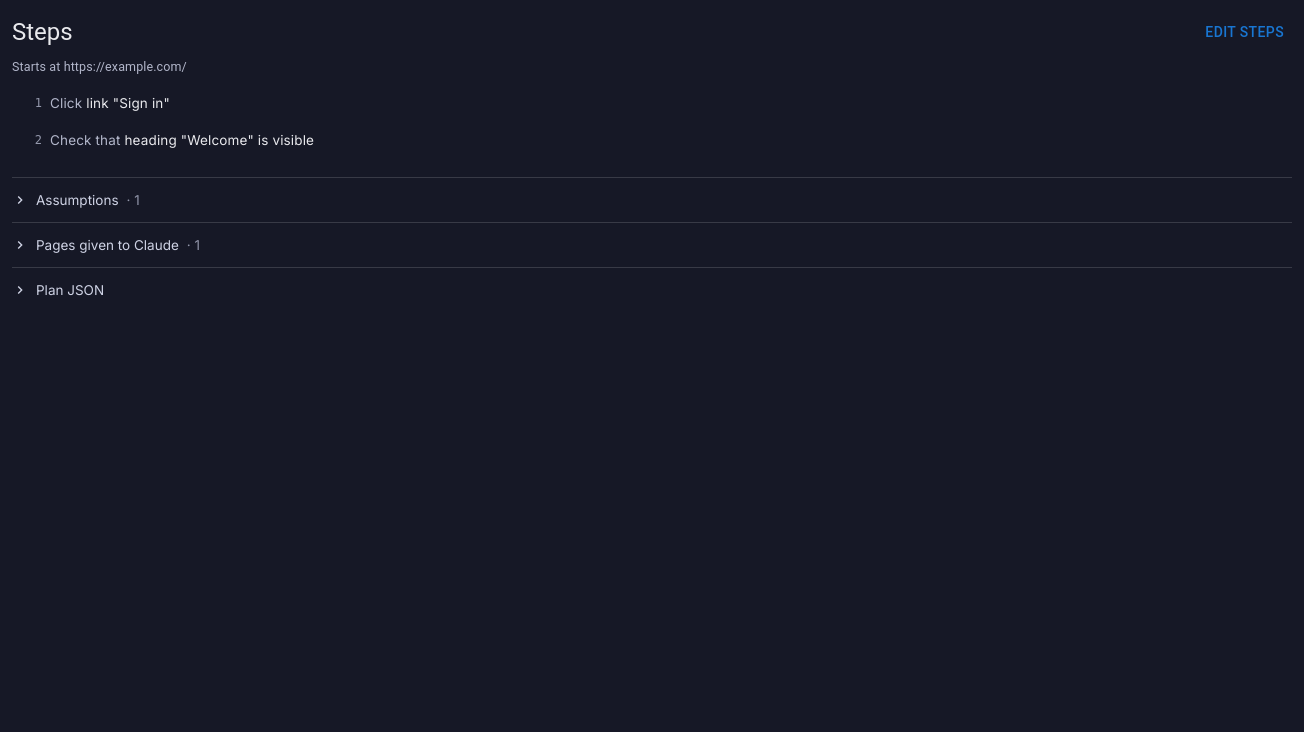
ActionScriptDetails › editing steps › opens the editor from the phone layout too
Click the button "Edit steps": click(1245, 32) top-left (1197, 12), bottom-right (1292, 52)
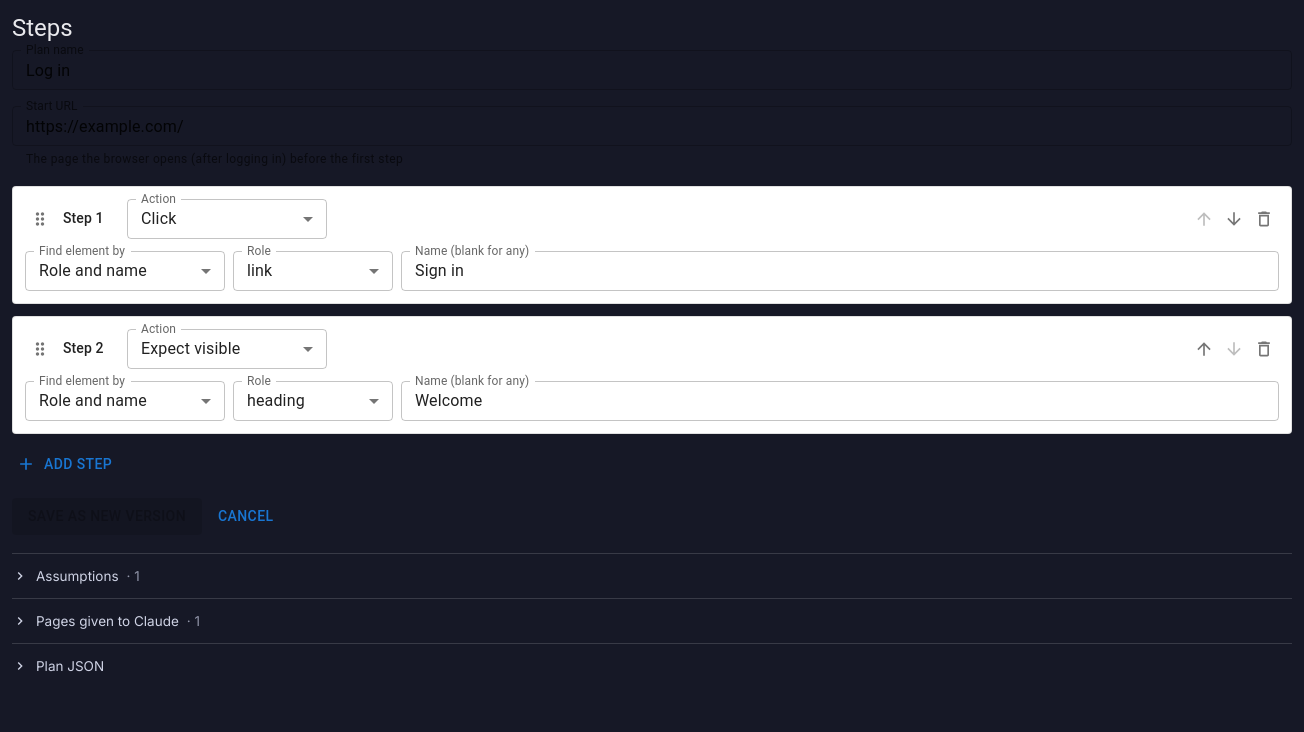
Expected: the field labelled "Plan name" holds "Log in", top-left (12, 50), bottom-right (1292, 90)
